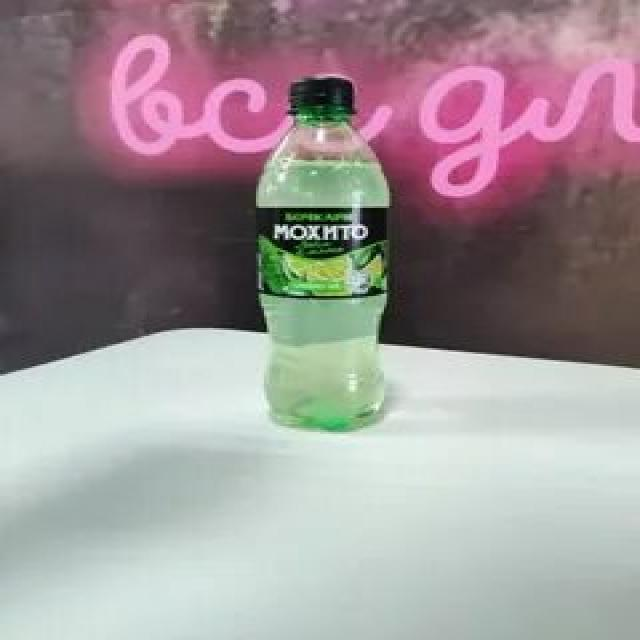green: (256, 105, 394, 433)
